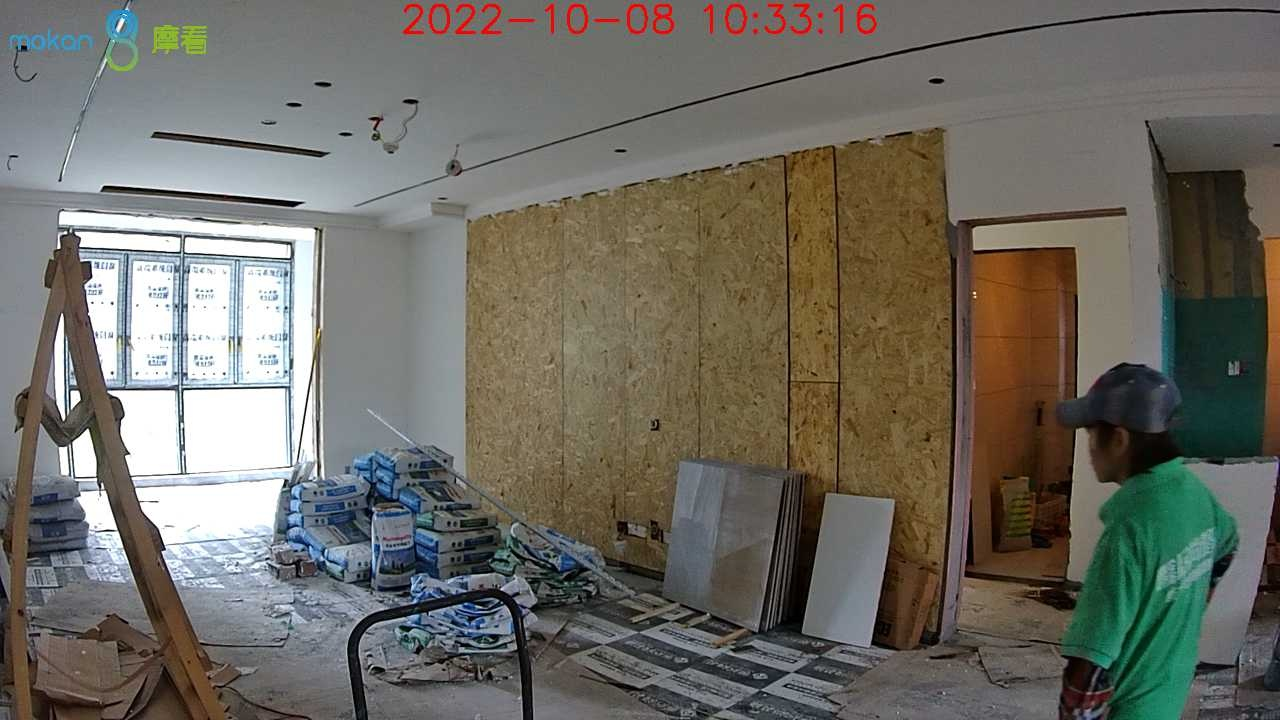people: (1058, 362, 1241, 719)
window: (61, 231, 299, 478)
